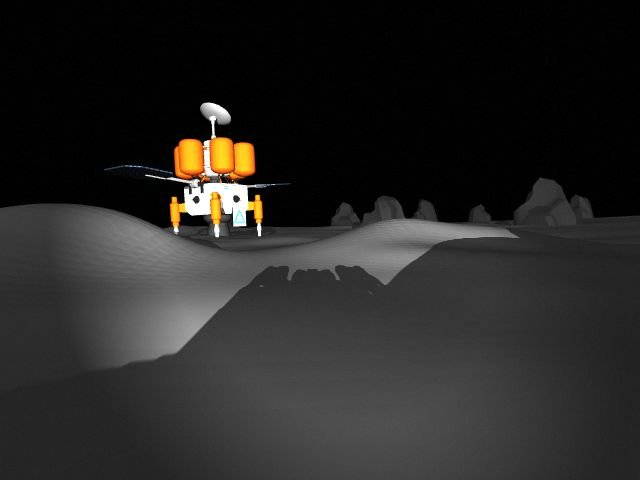homebase: (99, 96, 309, 244)
